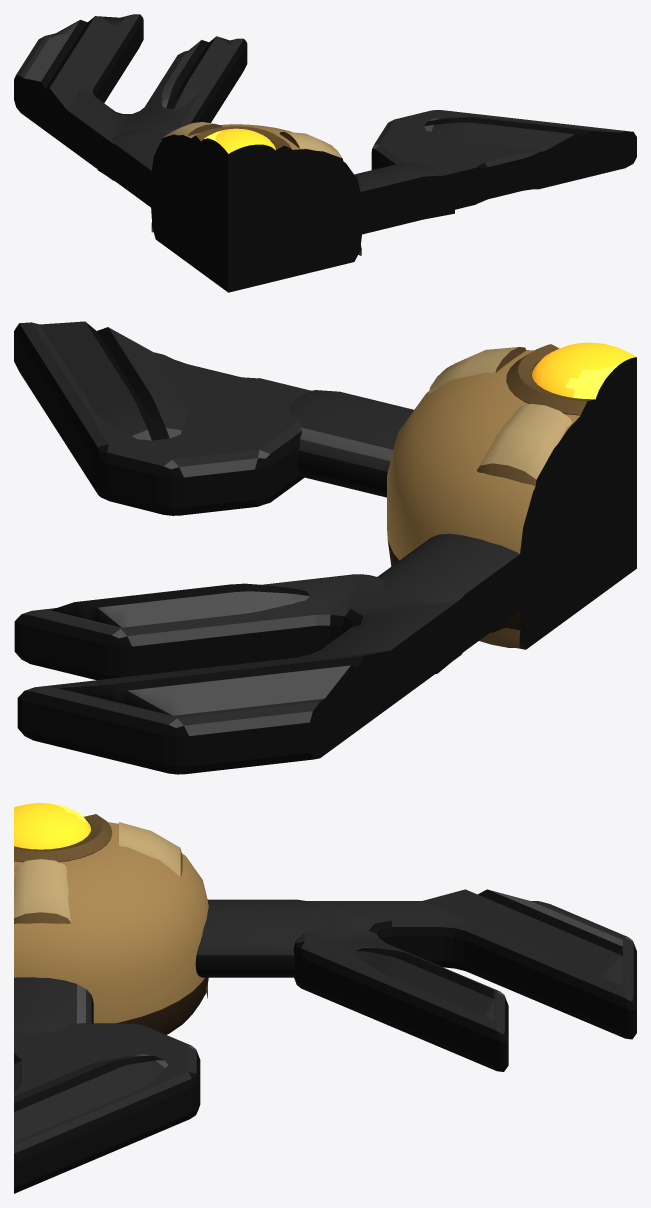
The model's file is spin_claw_155.glb.
3 views of the same model, one above another, from view 1: azimuth 30°, elevation 25°; view 2: azimuth 150°, elevation 25°; view 3: azimuth 270°, elevation 25° (orthographic). The views are drawn at different scales.
Parts seen in each view (by area): view 1: spin_claw_155_hub_dome, spin_claw_155_arm1_plate, spin_claw_155_arm0_plate, spin_claw_155_arm1_rod, spin_claw_155_arm0_ridge0, spin_claw_155_arm1_ridge0, spin_claw_155_arm0_rod, spin_claw_155_arm0_ridge1, spin_claw_155_hub_lens, spin_claw_155_hub_bezel, spin_claw_155_hub_rib1, spin_claw_155_hub_rib0; view 2: spin_claw_155_arm0_plate, spin_claw_155_hub_dome, spin_claw_155_arm1_plate, spin_claw_155_arm0_rod, spin_claw_155_arm0_ridge0, spin_claw_155_arm1_ridge0, spin_claw_155_arm1_rod, spin_claw_155_arm0_ridge1, spin_claw_155_hub_rib0, spin_claw_155_hub_lens, spin_claw_155_hub_bezel, spin_claw_155_hub_rib1; view 3: spin_claw_155_arm0_plate, spin_claw_155_hub_dome, spin_claw_155_arm1_plate, spin_claw_155_arm0_rod, spin_claw_155_arm0_ridge0, spin_claw_155_arm1_ridge0, spin_claw_155_arm0_ridge1, spin_claw_155_arm1_rod, spin_claw_155_hub_rib1, spin_claw_155_hub_lens, spin_claw_155_hub_bezel, spin_claw_155_hub_rib0.
Part boxes in pixels (bbox=[...]): spin_claw_155_hub_dome: bbox=[151, 124, 362, 292]; spin_claw_155_arm1_plate: bbox=[371, 110, 636, 216]; spin_claw_155_arm0_plate: bbox=[14, 14, 247, 180]; spin_claw_155_arm1_rod: bbox=[307, 163, 454, 244]; spin_claw_155_arm0_ridge0: bbox=[21, 16, 124, 118]; spin_claw_155_arm1_ridge0: bbox=[424, 116, 625, 156]; spin_claw_155_arm0_rod: bbox=[97, 128, 182, 225]; spin_claw_155_arm0_ridge1: bbox=[161, 36, 232, 109]; spin_claw_155_hub_lens: bbox=[200, 128, 276, 176]; spin_claw_155_hub_bezel: bbox=[191, 126, 292, 174]; spin_claw_155_hub_rib1: bbox=[279, 131, 361, 255]; spin_claw_155_hub_rib0: bbox=[151, 122, 222, 232]; spin_claw_155_arm0_plate: bbox=[14, 574, 468, 774]; spin_claw_155_hub_dome: bbox=[387, 350, 636, 649]; spin_claw_155_arm1_plate: bbox=[14, 322, 310, 515]; spin_claw_155_arm0_rod: bbox=[377, 526, 567, 673]; spin_claw_155_arm0_ridge0: bbox=[59, 649, 396, 715]; spin_claw_155_arm1_ridge0: bbox=[40, 321, 187, 440]; spin_claw_155_arm1_rod: bbox=[289, 390, 413, 497]; spin_claw_155_arm0_ridge1: bbox=[50, 583, 309, 627]; spin_claw_155_hub_rib0: bbox=[476, 404, 573, 648]; spin_claw_155_hub_lens: bbox=[532, 342, 636, 422]; spin_claw_155_hub_bezel: bbox=[506, 344, 636, 427]; spin_claw_155_hub_rib1: bbox=[428, 347, 526, 394]; spin_claw_155_arm0_plate: bbox=[293, 901, 636, 1071]; spin_claw_155_hub_dome: bbox=[14, 822, 208, 1034]; spin_claw_155_arm1_plate: bbox=[14, 1023, 200, 1193]; spin_claw_155_arm0_rod: bbox=[195, 899, 327, 977]; spin_claw_155_arm0_ridge0: bbox=[422, 889, 622, 985]; spin_claw_155_arm1_ridge0: bbox=[14, 1054, 168, 1141]; spin_claw_155_arm0_ridge1: bbox=[355, 947, 494, 1020]; spin_claw_155_arm1_rod: bbox=[14, 977, 93, 1033]; spin_claw_155_hub_rib1: bbox=[14, 859, 71, 923]; spin_claw_155_hub_lens: bbox=[14, 803, 90, 849]; spin_claw_155_hub_bezel: bbox=[14, 814, 112, 862]; spin_claw_155_hub_rib0: bbox=[119, 822, 207, 998].
Bounding box in the file's own units: 11.01 × 3.73 × 11.52.
